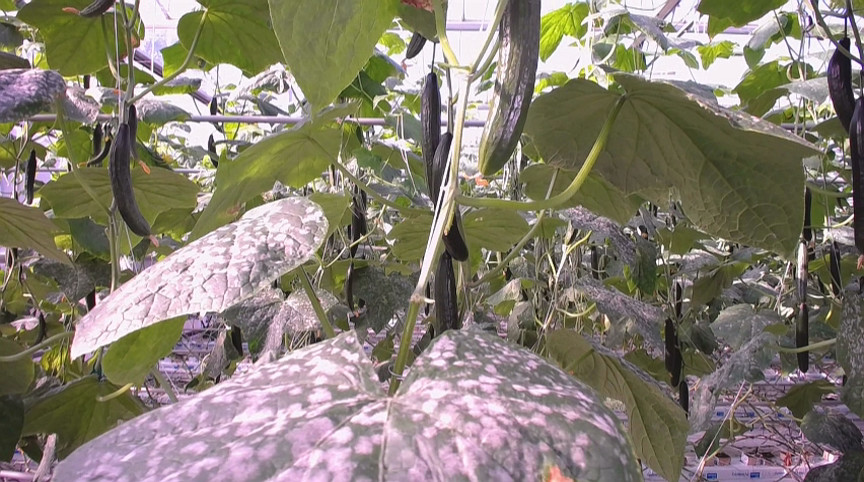cucumber: (479, 1, 543, 176), (110, 122, 151, 238), (435, 133, 469, 263), (825, 40, 854, 129), (421, 71, 441, 194), (850, 101, 864, 245), (794, 306, 810, 373), (21, 151, 37, 205), (408, 30, 426, 60)
